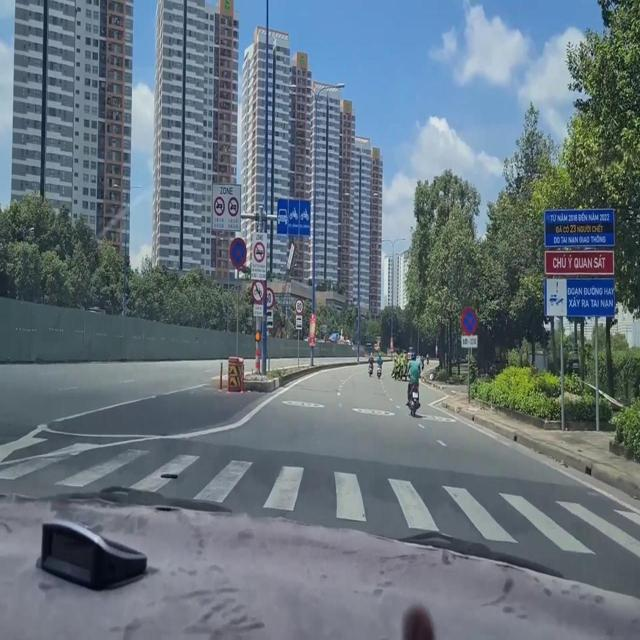Biển phụ: (459, 332, 479, 349), (250, 303, 264, 323), (266, 307, 274, 331), (295, 312, 302, 333)
Cấm các phương tiện hoạt động trong khung giờ cố định: (210, 180, 242, 230), (252, 231, 267, 280)
Cấm dừng - Cấm đỗ: (226, 233, 247, 271), (456, 301, 479, 335)
Cấm xe máy: (250, 277, 266, 306)
Giới hạn tốc độ 60Km/h: (263, 285, 275, 306)
Giới hạn tốc độ 80Km/h: (294, 294, 305, 314)
Khác: (539, 203, 617, 325)
Làn đường cho từng xe: (274, 189, 312, 240)
